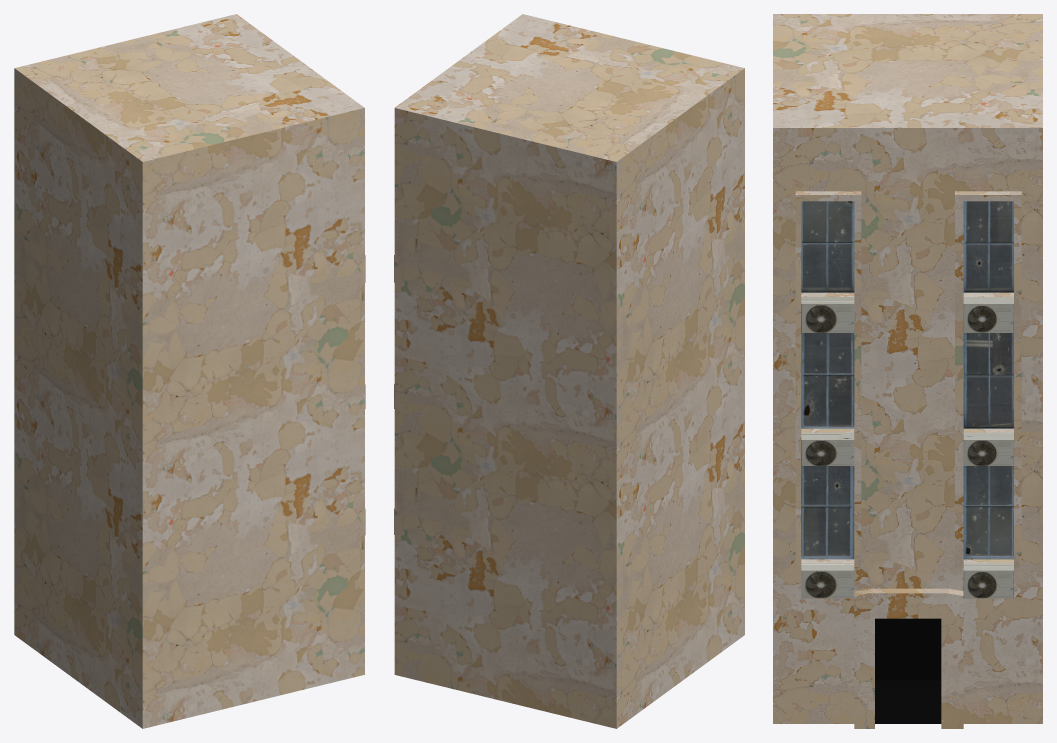
File: building.fbx
3 renders of one model, left to right at view 1: azimuth 30°, elevation 25°; view 2: azimuth 150°, elevation 25°; view 3: azimuth 270°, elevation 25°, orthographic. The views are drawn at different scales.
Visible parts, largest first — view 1: Cube; view 2: Cube; view 3: Cube.
Part boxes in pixels (x1=…): Cube: x1=14, y1=14, x2=365, y2=728; Cube: x1=394, y1=14, x2=744, y2=728; Cube: x1=773, y1=14, x2=1042, y2=728.
Bounding box in the file's own units: 786 × 1803 × 739.
